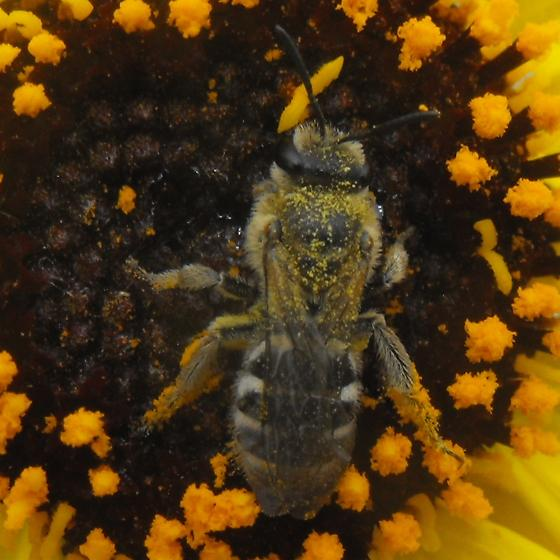Lasioglossum: (137, 80, 448, 532)
